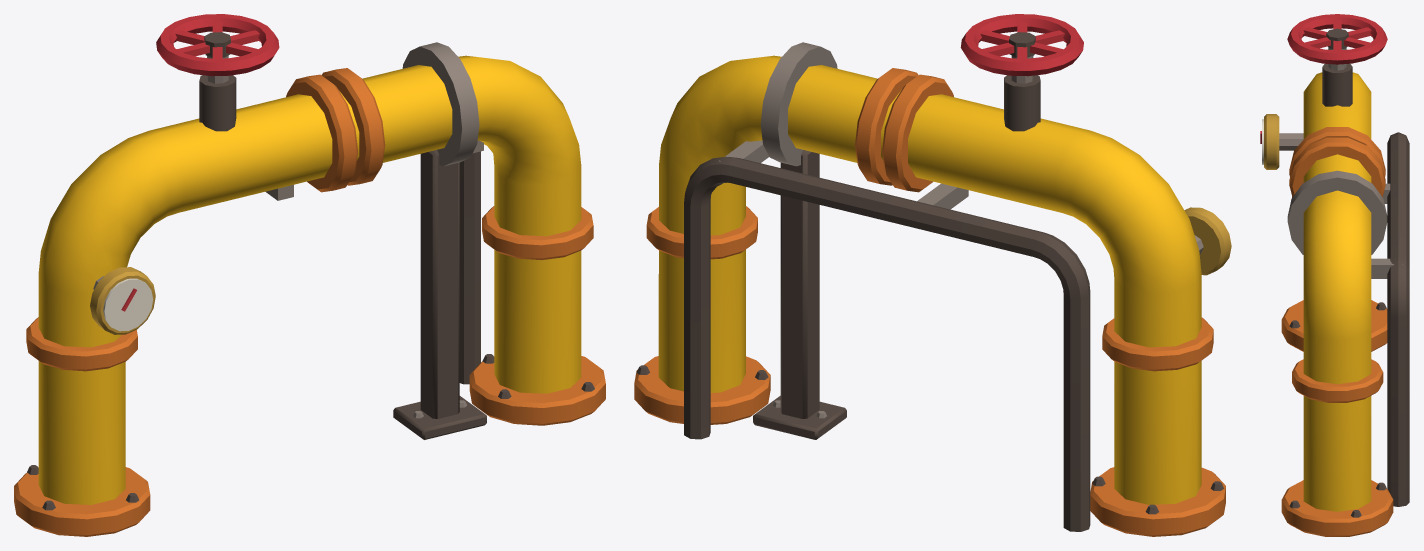
File: pipe__upper.glb
3 renders of one model, left to right at view 1: azimuth 30°, elevation 25°; view 2: azimuth 150°, elevation 25°; view 3: azimuth 270°, elevation 25°, orthographic. The views are drawn at different scales.
Visible parts, largest first — view 1: Body; view 2: Body; view 3: Body.
Boxes of the visible parts, left/top/right/bottom form: Body: left=14, top=14, right=605, bottom=536; Body: left=634, top=14, right=1231, bottom=536; Body: left=1260, top=14, right=1409, bottom=536.
Bounding box in the file's own units: 1.05 × 0.773 × 0.294.
